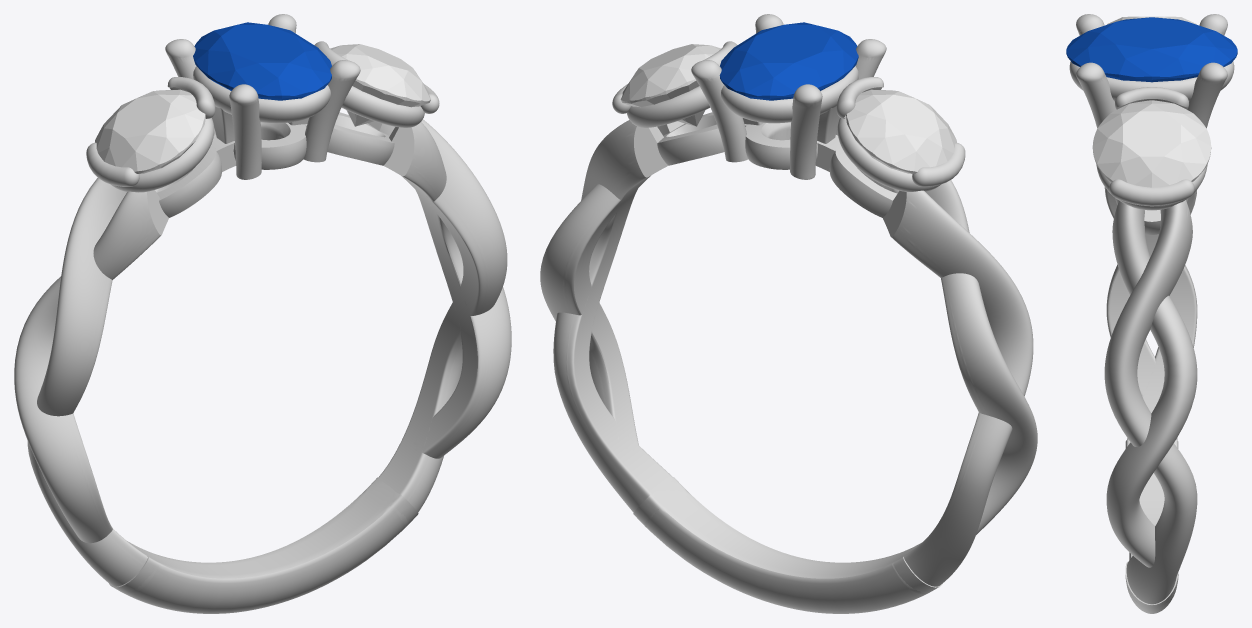
File: ChrisPTtwistEng_blender.glb
3 renders of one model, left to right at view 1: azimuth 30°, elevation 25°; view 2: azimuth 150°, elevation 25°; view 3: azimuth 270°, elevation 25°, orthographic.
Parts seen in each view (by area): view 1: Chris PT for 3d model, Chris sapph for 3d model, Chris dia for 3d model.001, Chris dia for 3d model; view 2: Chris PT for 3d model, Chris sapph for 3d model, Chris dia for 3d model.001, Chris dia for 3d model; view 3: Chris PT for 3d model, Chris dia for 3d model, Chris sapph for 3d model.
Boxes of the visible parts, left/top/right/bottom form: Chris PT for 3d model: left=14, top=14, right=511, bottom=613; Chris sapph for 3d model: left=193, top=22, right=331, bottom=100; Chris dia for 3d model.001: left=95, top=89, right=205, bottom=173; Chris dia for 3d model: left=330, top=44, right=430, bottom=126; Chris PT for 3d model: left=540, top=14, right=1037, bottom=613; Chris sapph for 3d model: left=719, top=22, right=858, bottom=100; Chris dia for 3d model.001: left=846, top=89, right=956, bottom=173; Chris dia for 3d model: left=620, top=44, right=721, bottom=126; Chris PT for 3d model: left=1069, top=14, right=1234, bottom=613; Chris dia for 3d model: left=1092, top=100, right=1211, bottom=187; Chris sapph for 3d model: left=1066, top=17, right=1237, bottom=82.
Bounding box in the file's own units: 21.96 × 24.31 × 6.81.
